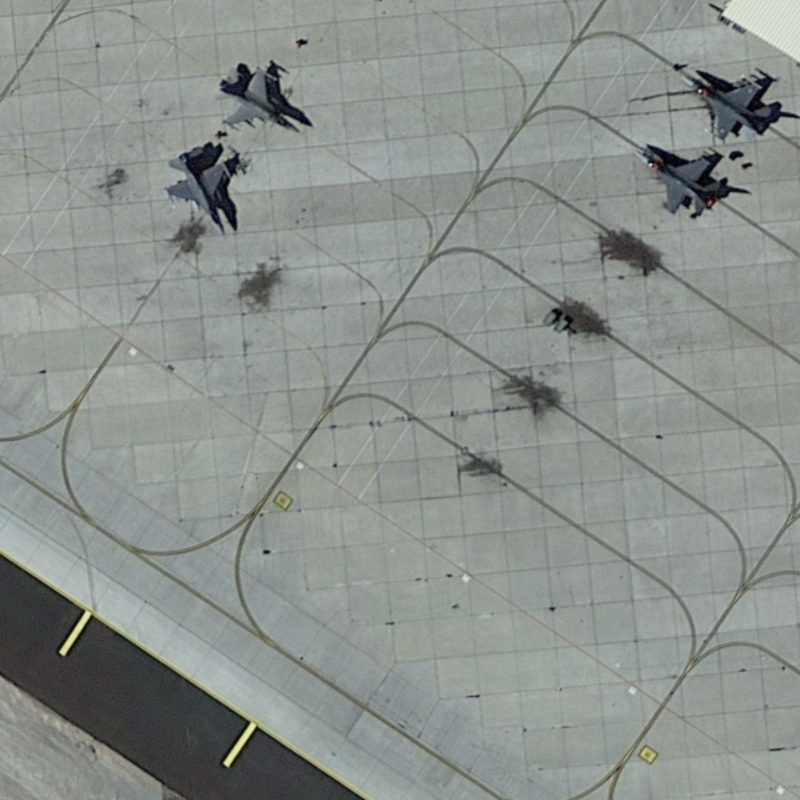A5: (662, 55, 789, 144), (159, 139, 247, 239), (628, 142, 731, 221), (213, 56, 304, 142)
